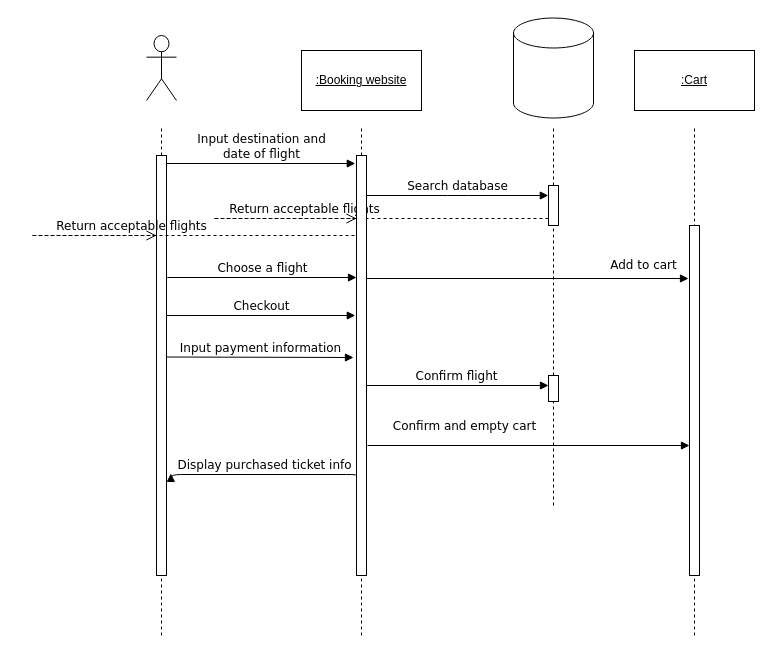
This 772x654 diagram has some shape labels left out. Each missing label, with the box of its shape:
Customer: (146, 34, 176, 100)
Flight database: (512, 17, 594, 118)
